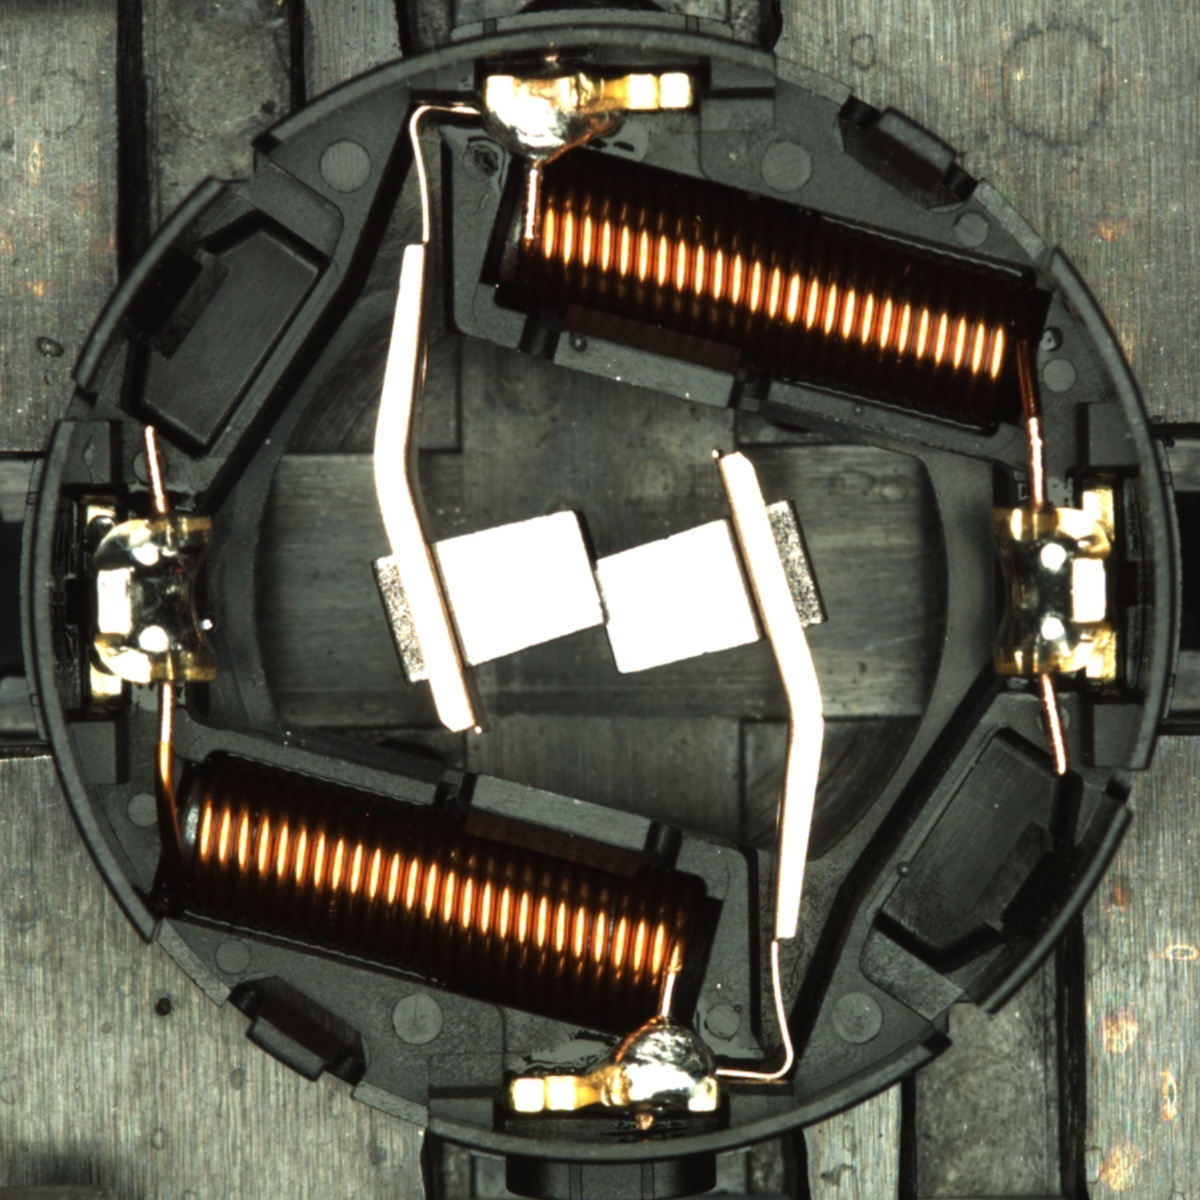1: (252, 30, 481, 255), (711, 927, 940, 1152)
2: (711, 30, 940, 255), (252, 927, 481, 1152)
3: (940, 703, 1169, 927), (23, 255, 252, 479)
4: (252, 255, 481, 479), (711, 703, 940, 927)
5: (481, 142, 711, 367), (481, 815, 711, 1040)
6: (252, 703, 481, 927), (711, 255, 940, 479)
7: (940, 255, 1169, 479), (23, 703, 252, 927)
bui_chi: (197, 614, 216, 634)
cacbon: (391, 497, 801, 685)
chau_dien: (81, 499, 222, 701), (984, 488, 1124, 687)
tay_choi: (480, 71, 698, 171), (509, 1016, 722, 1116)
thanh_de: (954, 787, 1141, 1030), (58, 164, 244, 404)
